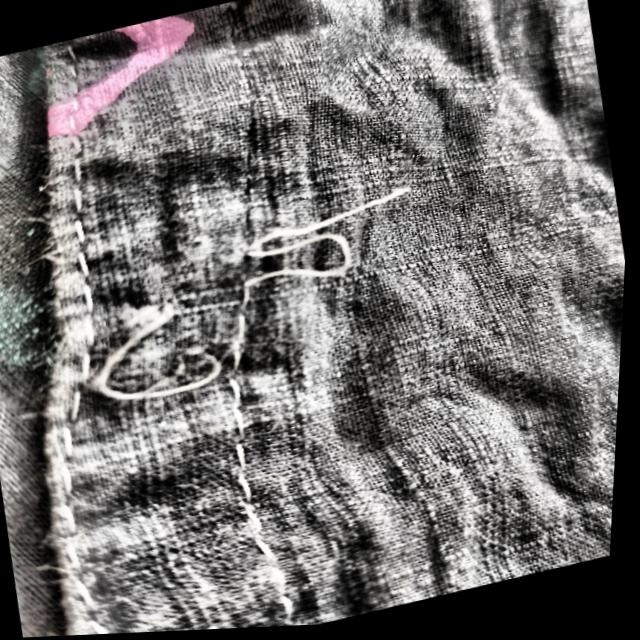Stitch: (43, 136, 494, 454)
